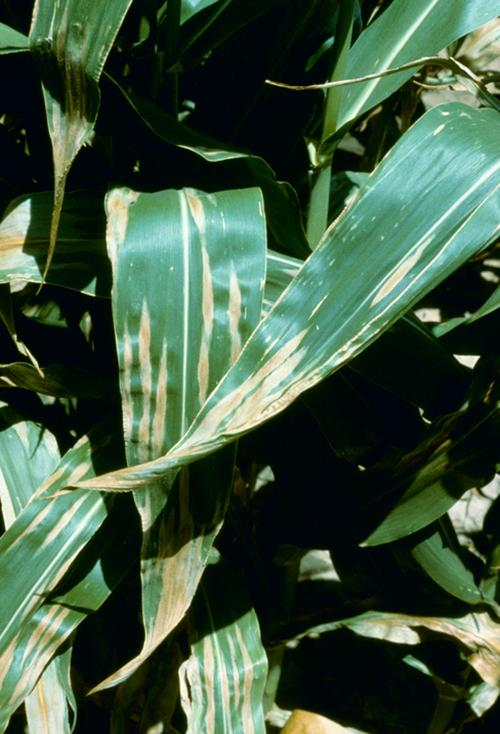Corn leaf blight: (81, 113, 496, 500), (100, 172, 271, 730)
